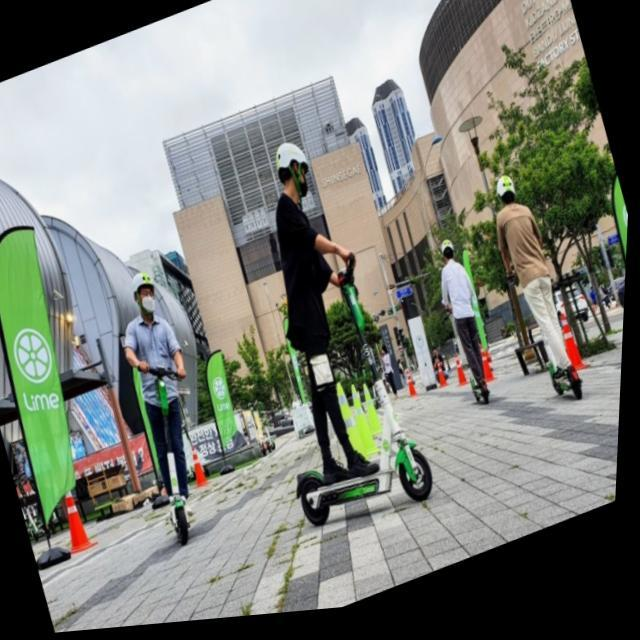Helmet: (270, 132, 321, 209), (125, 263, 163, 323)
